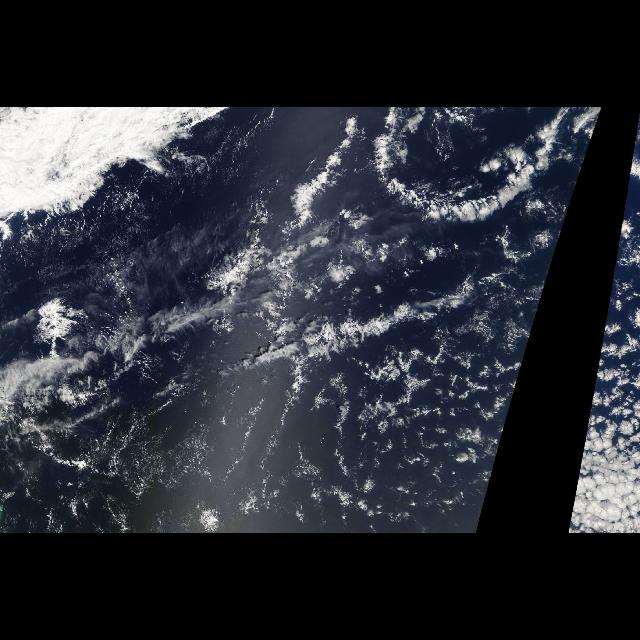Fish: (215, 266, 477, 408)
Flower: (217, 127, 598, 526), (568, 127, 640, 526)
Gravel: (116, 376, 474, 524)
